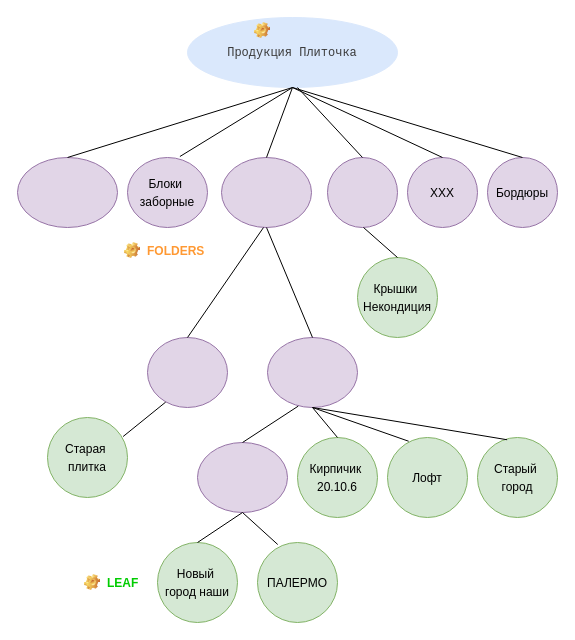
This 575x640 diagram has some shape labels left out. Each missing label, with the box of its shape:
ROOT: (247, 17, 367, 43)
Вибролитье: (146, 336, 228, 408)
Вибропресс: (266, 336, 358, 408)
Крышки: (326, 156, 398, 228)
Новый город: (196, 442, 288, 512)
Товары из Продукция Плиточка: (16, 156, 118, 228)
Тротуарная плитка: (220, 156, 312, 228)
